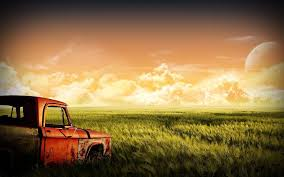field: (99, 106, 281, 173)
sky: (5, 3, 275, 103)
